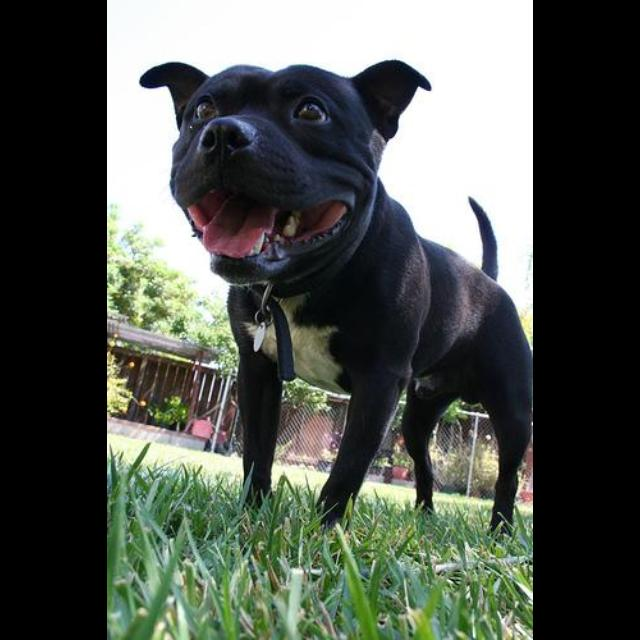amstaff: (139, 59, 533, 541)
